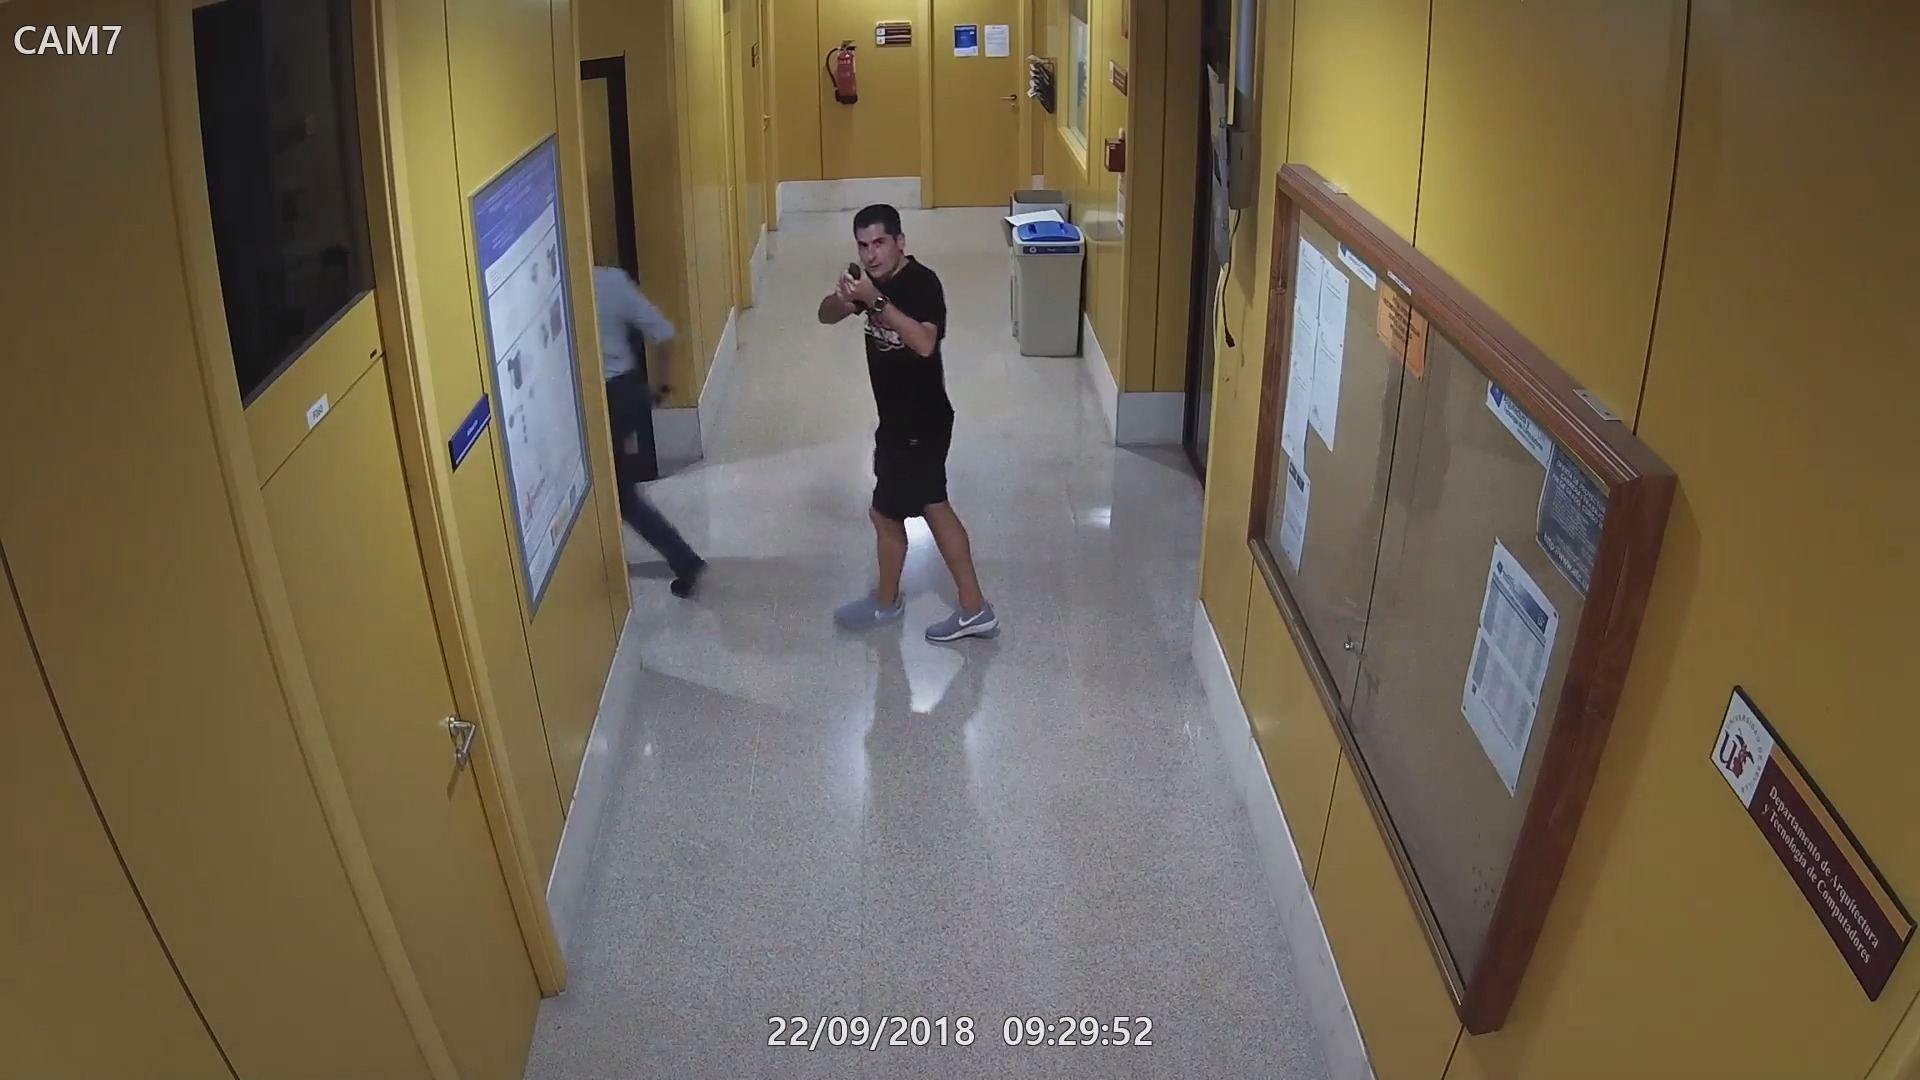Handgun: (839, 260, 874, 305)
